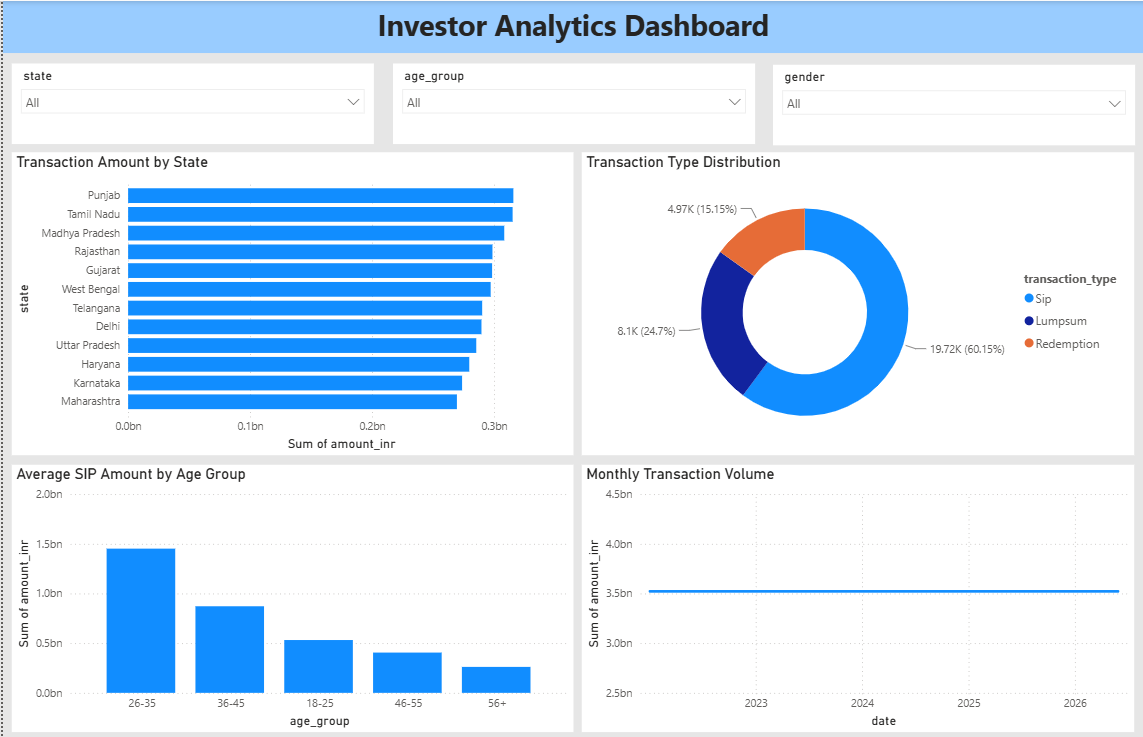

What the dashboard file says about the page in this screenshot:
{"tool":"powerbi","page":{"name":"Page 3","canvas":[1280,826],"ordinal":2},"visuals":[{"type":"textbox","box":[0,0,1280.3,58.7],"z":0},{"type":"slicer","fields":{"Values":["08_investor_transactions_clean.state"]},"box":[10,70,406,90],"z":1000},{"type":"slicer","fields":{"Values":["08_investor_transactions_clean.gender"]},"box":[864,72,406,90],"z":2000},{"type":"slicer","fields":{"Values":["08_investor_transactions_clean.age_group"]},"box":[437,70,406,90],"z":3000},{"type":"clusteredBarChart","title":"Transaction Amount by State","fields":{"Y":["Sum(08_investor_transactions_clean.amount_inr)"],"Category":["08_investor_transactions_clean.state"]},"box":[10,170,630,340],"z":4000},{"type":"donutChart","title":"Transaction Type Distribution","fields":{"Category":["08_investor_transactions_clean.transaction_type"],"Y":["CountNonNull(08_investor_transactions_clean.transaction_type)"]},"box":[650,170,620,340],"z":5000},{"type":"clusteredColumnChart","title":"Average SIP Amount by Age Group","fields":{"Category":["08_investor_transactions_clean.age_group"],"Y":["Sum(08_investor_transactions_clean.amount_inr)"]},"box":[10,520,630,300],"z":6000},{"type":"lineChart","title":"Monthly Transaction Volume","fields":{"Category":["02_nav_history_clean.date"],"Y":["Sum(08_investor_transactions_clean.amount_inr)"]},"box":[650,520,620,300],"z":7000}]}

Visuals, with their boxes in screenshot pixels (x1, y1, x2, y2), scaled from the page's 1280x826 canvas onto the 1143x737 screenshot:
textbox: crop(0, 0, 1142, 52)
slicer - 08_investor_transactions_clean.state: crop(9, 62, 371, 143)
slicer - 08_investor_transactions_clean.gender: crop(772, 64, 1134, 145)
slicer - 08_investor_transactions_clean.age_group: crop(390, 62, 753, 143)
"Transaction Amount by State" clusteredBarChart: crop(9, 152, 572, 455)
"Transaction Type Distribution" donutChart: crop(580, 152, 1134, 455)
"Average SIP Amount by Age Group" clusteredColumnChart: crop(9, 464, 572, 732)
"Monthly Transaction Volume" lineChart: crop(580, 464, 1134, 732)
